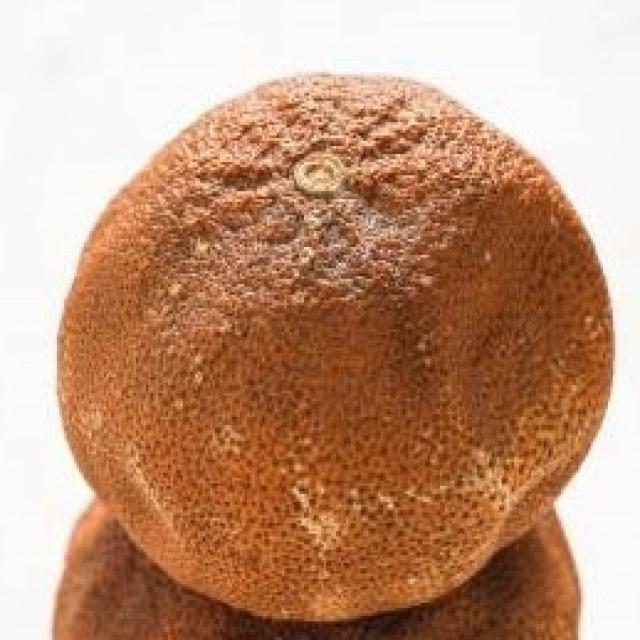overripe: (58, 62, 621, 628)
